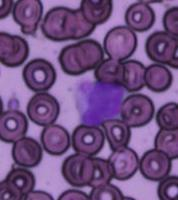M: (74, 80, 124, 127)
